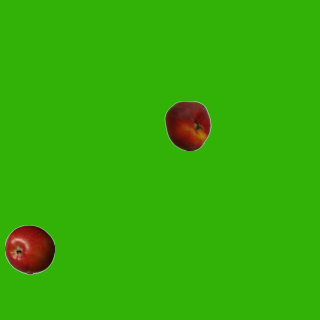Apple Braeburn: (4, 224, 54, 274)
Nectarine Flat: (162, 100, 212, 150)
